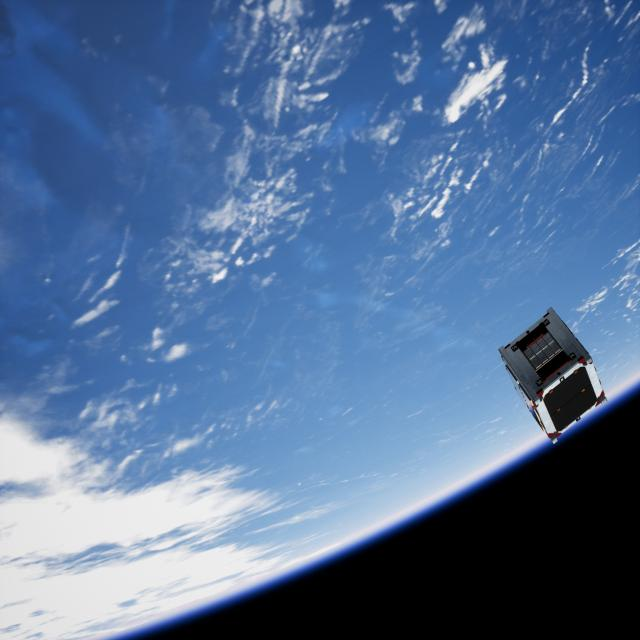medium_debris: (496, 308, 610, 447)
